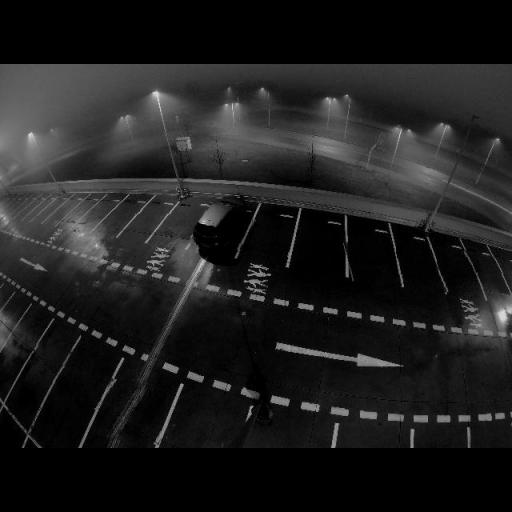busy: (191, 196, 246, 248), (238, 378, 266, 400)
free: (102, 380, 165, 444), (177, 406, 233, 446), (346, 234, 394, 280), (298, 227, 344, 269), (56, 367, 102, 409), (248, 221, 292, 256), (437, 252, 475, 292), (396, 246, 432, 287), (26, 345, 62, 381), (476, 258, 504, 290), (163, 213, 191, 238), (6, 332, 31, 360), (114, 204, 136, 220), (139, 210, 159, 224)
